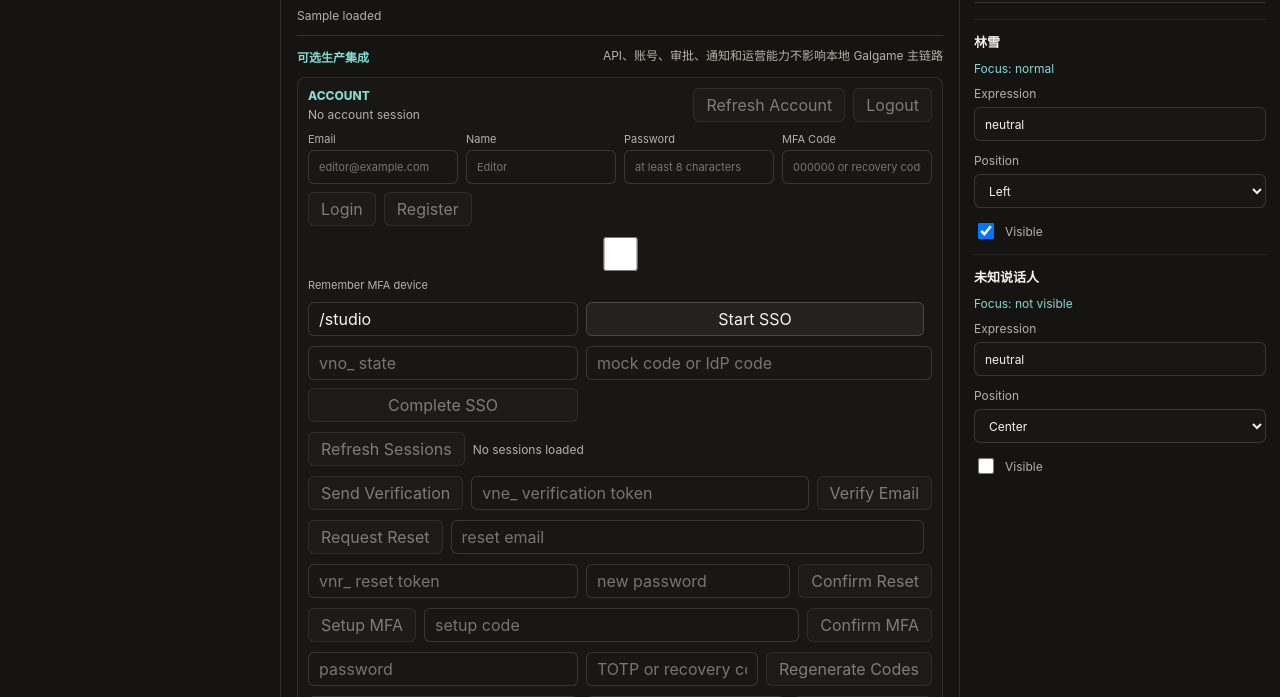
Scenario: Studio App › starts and completes SSO login from the account panel
The image size is (1280, 697).
(page scrolled)
Click the button "Start SSO": [755, 319] box [586,302,924,336]
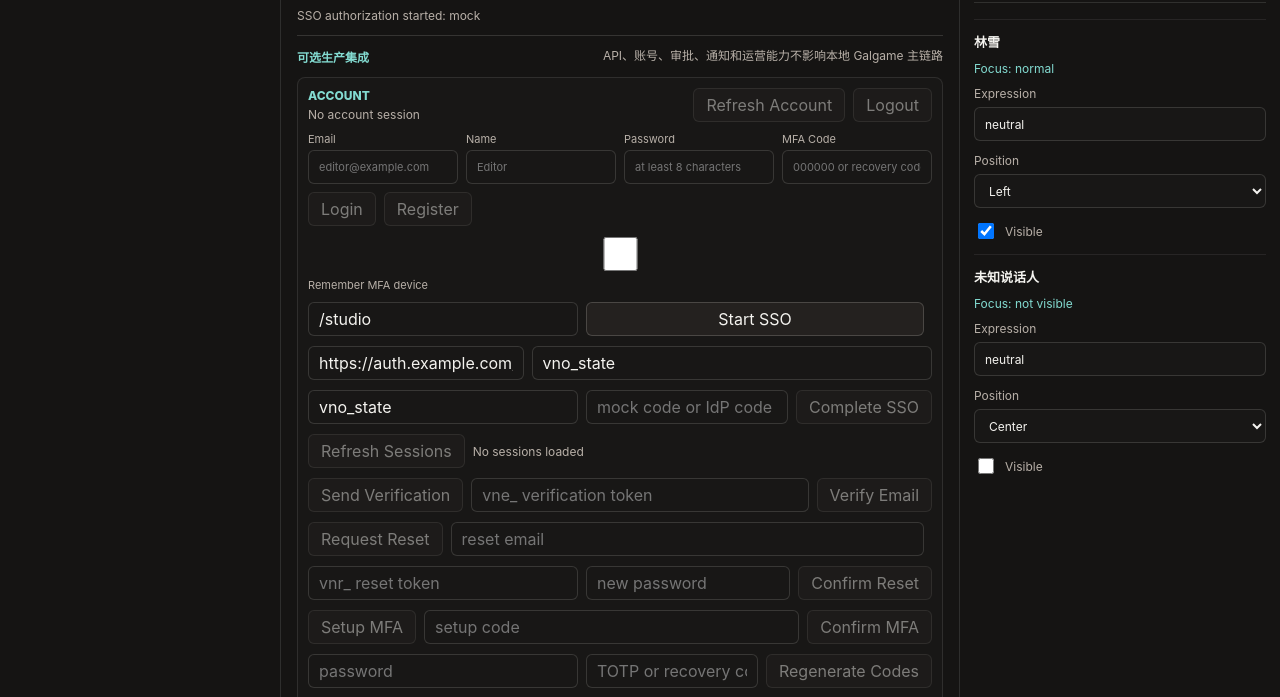
Expected: the text "SSO authorization started: mock" is shown, [297,8,480,23]
Expected: the field named "SSO authorization URL" holds "https://auth.example.com/mock?state=vno_state", [308,346,524,380]
Expected: the field named "SSO state" holds "vno_state", [532,346,932,380]
In the field named "SSO authorization code": [687, 407] box [586,390,788,424], type "sso.editor@example.com|SSO Editor"
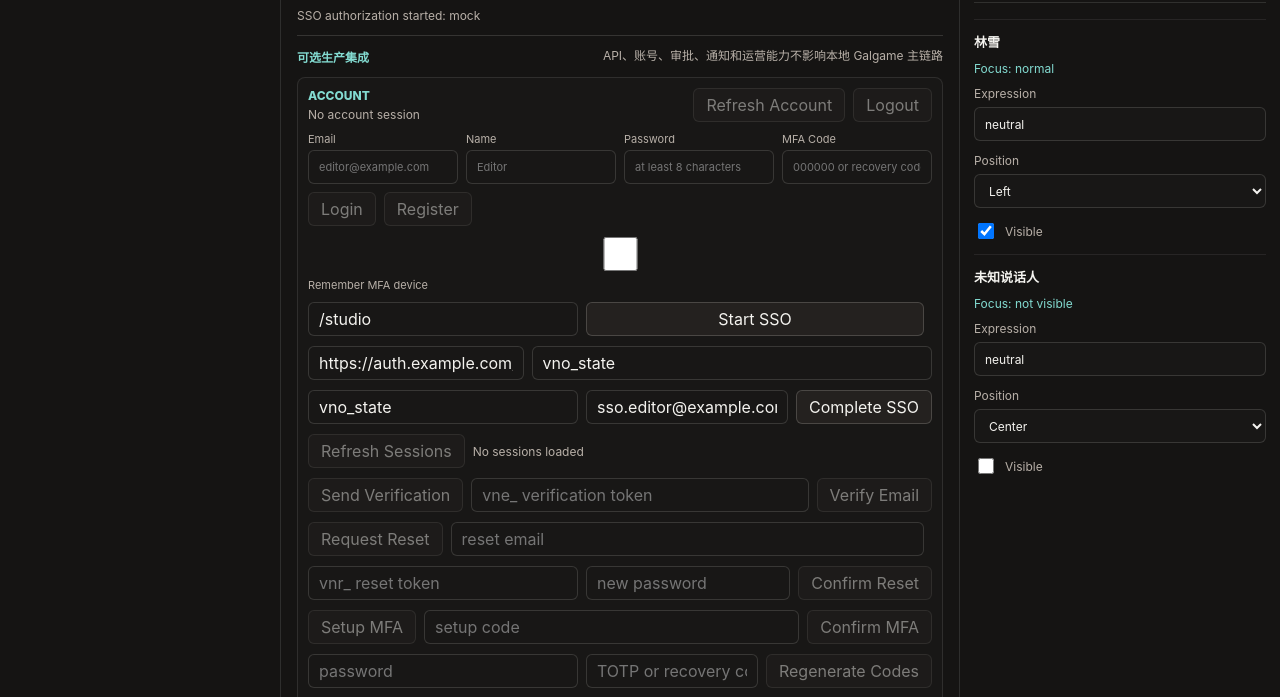
Click the button "Complete SSO": [864, 407] box [796,390,932,424]
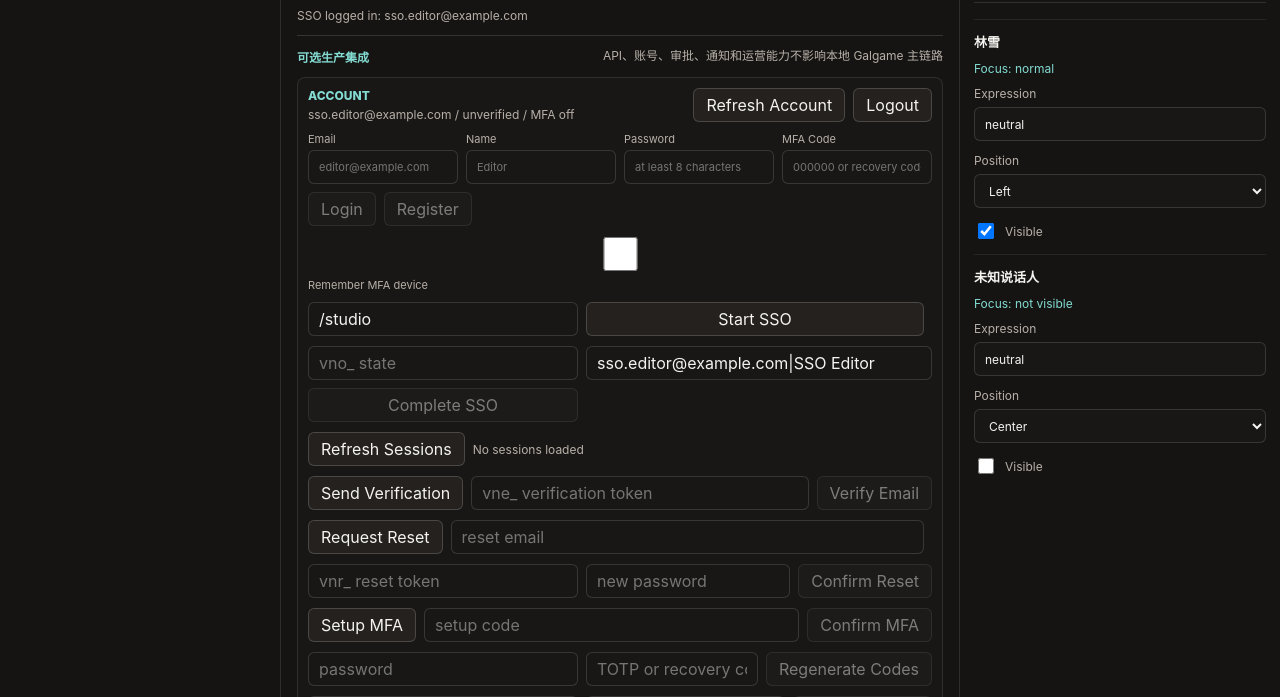
Expected: the text "SSO logged in: sso.editor@example.com" is shown, [297,8,528,23]
